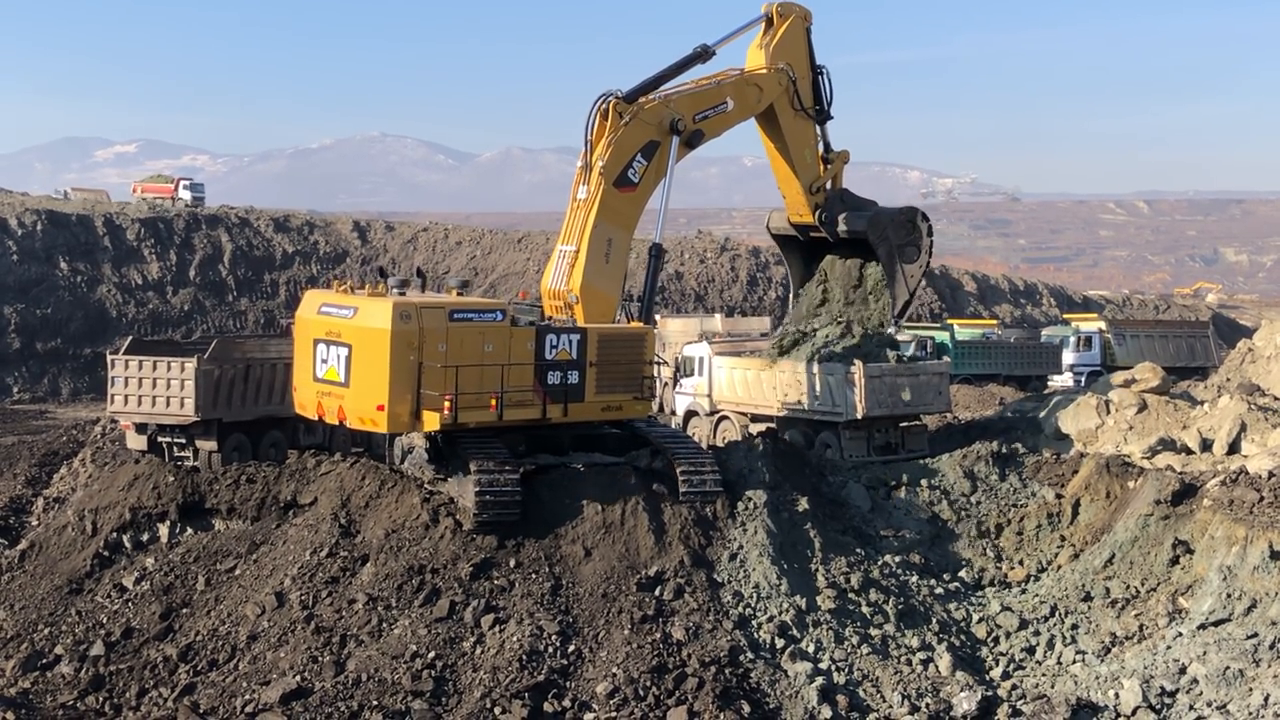full: (751, 186, 932, 334)
